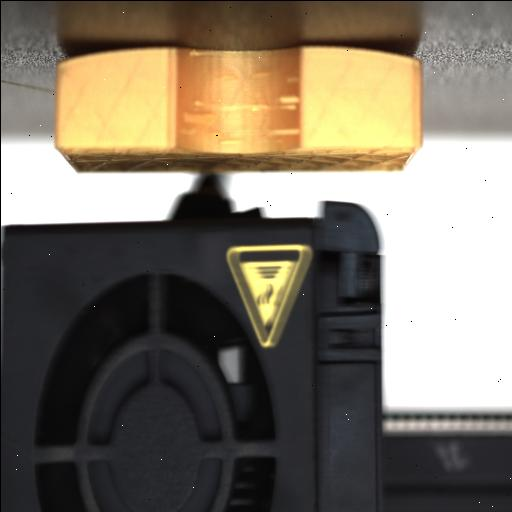warp: (328, 38, 424, 70), (50, 45, 122, 73)
